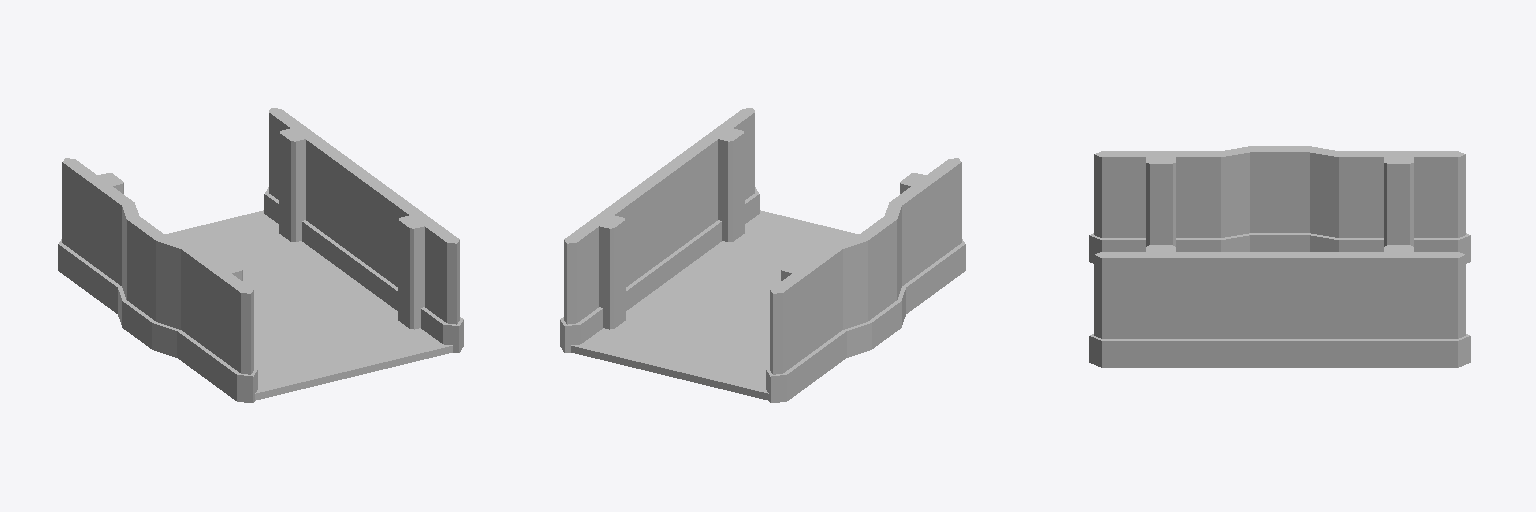
Rendered from hallway_09.obj.
3 renders of one model, left to right at view 1: azimuth 30°, elevation 25°; view 2: azimuth 150°, elevation 25°; view 3: azimuth 270°, elevation 25°, orthographic.
Visible parts, largest first — view 1: floor_04_56, wall_02_63, wall_02_61, wall_02_64, wall_03_65, wall_02_62, wall_01_68, floor_05_67, floor_04_59; view 2: floor_04_59, wall_02_64, wall_02_62, wall_02_63, wall_03_65, wall_02_61, wall_01_68, floor_05_67, floor_04_56; view 3: wall_02_61, wall_02_62, wall_01_68, wall_02_64, wall_02_63, wall_03_65.
Boxes of the visible parts, <box> form: floor_04_56: <box>254,298,452,400</box>; wall_02_63: <box>177,246,257,402</box>; wall_02_61: <box>383,195,463,352</box>; wall_02_64: <box>58,158,134,313</box>; wall_03_65: <box>118,202,193,357</box>; wall_02_62: <box>264,108,340,256</box>; wall_01_68: <box>324,153,399,299</box>; floor_05_67: <box>243,255,378,329</box>; floor_04_59: <box>165,210,326,280</box>; floor_04_59: <box>571,298,769,400</box>; wall_02_64: <box>766,245,846,402</box>; wall_02_62: <box>560,196,640,352</box>; wall_02_63: <box>889,158,965,313</box>; wall_03_65: <box>832,202,905,357</box>; wall_02_61: <box>684,108,759,256</box>; wall_01_68: <box>624,152,699,299</box>; floor_05_67: <box>645,260,780,329</box>; floor_04_56: <box>697,210,858,280</box>; wall_02_61: <box>1089,245,1226,367</box>; wall_02_62: <box>1335,245,1470,367</box>; wall_01_68: <box>1216,252,1345,367</box>; wall_02_64: <box>1332,151,1470,263</box>; wall_02_63: <box>1089,151,1225,263</box>; wall_03_65: <box>1213,146,1342,251</box>.
Size of the model in its own units: 2.31 by 1 by 3.21.